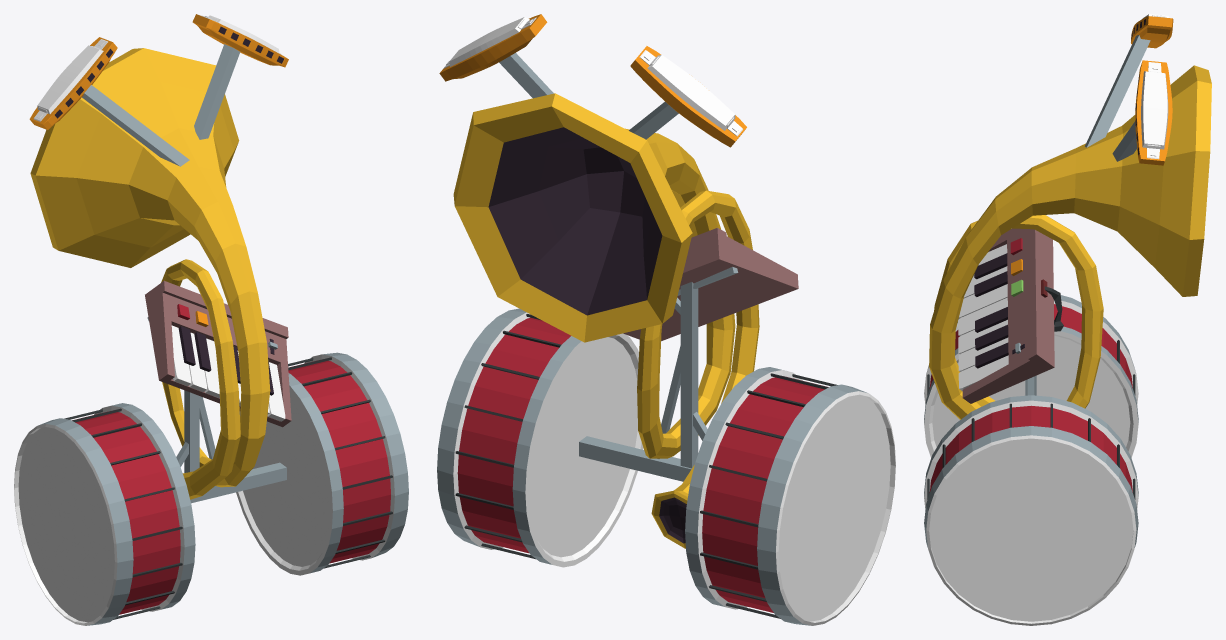
File: LD51Player.fbx
3 renders of one model, left to right at view 1: azimuth 30°, elevation 25°; view 2: azimuth 150°, elevation 25°; view 3: azimuth 270°, elevation 25°, orthographic. The views are drawn at different scales.
Visible parts, largest first — view 1: Drum, Horn, Synth, Metal, Harmonica; view 2: Drum, Horn, Metal, Harmonica, Synth; view 3: Drum, Horn, Synth, Harmonica, Metal.
Boxes of the visible parts, <box> form: Drum: <box>14,352,408,625</box>; Horn: <box>30,48,270,499</box>; Synth: <box>145,280,291,427</box>; Metal: <box>82,44,286,503</box>; Harmonica: <box>29,14,288,129</box>; Drum: <box>437,308,895,625</box>; Horn: <box>453,93,759,548</box>; Metal: <box>499,53,738,481</box>; Harmonica: <box>439,14,746,147</box>; Synth: <box>623,228,798,341</box>; Drum: <box>924,295,1138,625</box>; Horn: <box>929,65,1211,419</box>; Synth: <box>958,228,1063,403</box>; Harmonica: <box>1131,14,1173,165</box>; Metal: <box>1025,35,1150,395</box>.
Bounding box in the file's own units: 337 × 282 × 563.
